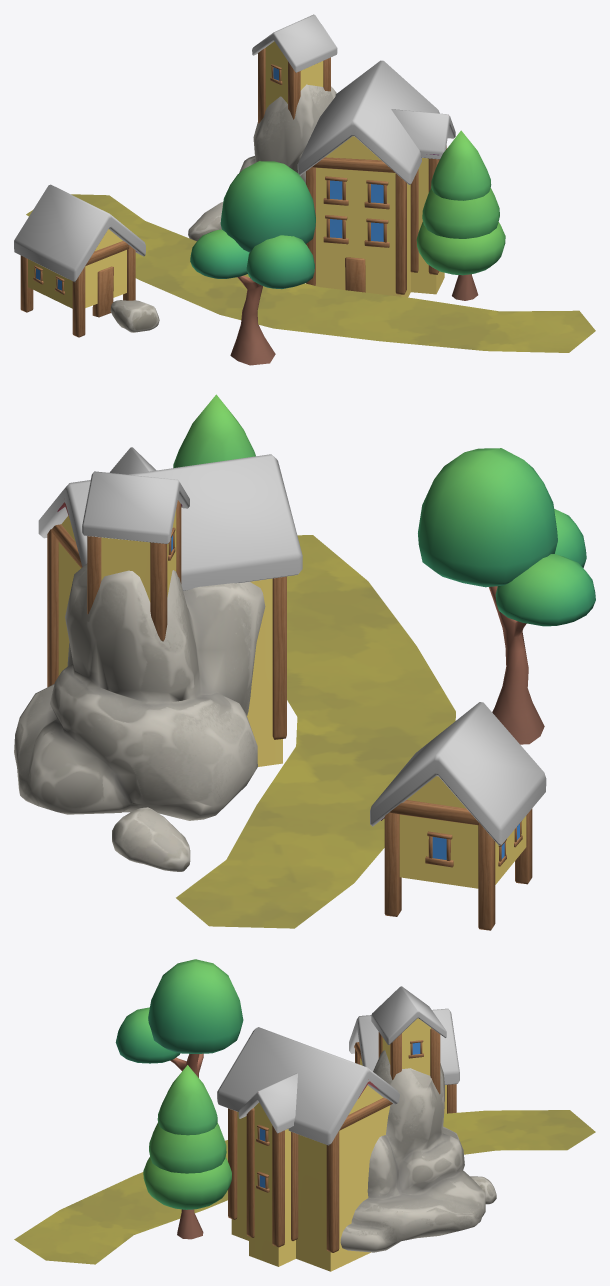
The model's file is City_01.fbx.
3 renders of one model, top to bottom at view 1: azimuth 30°, elevation 25°; view 2: azimuth 150°, elevation 25°; view 3: azimuth 270°, elevation 25°, orthographic. The views are drawn at different scales.
Parts seen in each view (by area): view 1: City_01; view 2: City_01; view 3: City_01.
Part boxes in pixels (x1,y1,x2,y2): City_01: (14, 14, 595, 365); City_01: (14, 394, 595, 930); City_01: (14, 959, 595, 1271).
Bounding box in the file's own units: 145 × 82.73 × 185.
